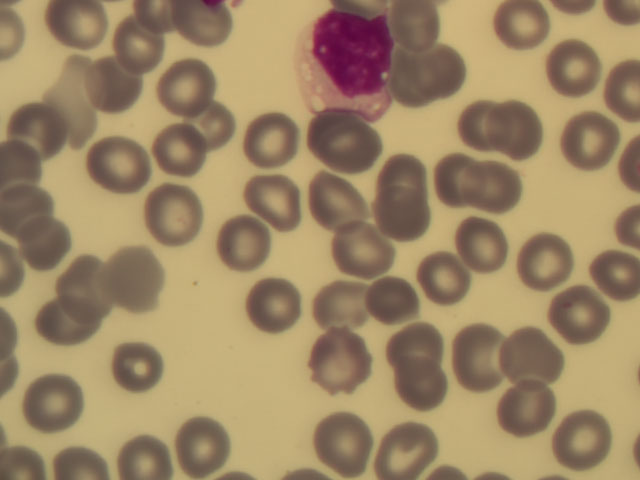RBC: (42, 50, 104, 133), (85, 58, 147, 122), (109, 14, 171, 78), (158, 53, 220, 117), (182, 90, 244, 154), (152, 114, 214, 178), (91, 131, 153, 195), (142, 176, 204, 240), (111, 248, 173, 312), (54, 255, 116, 319), (19, 216, 81, 280), (11, 98, 73, 162), (36, 301, 98, 365), (105, 331, 167, 395), (25, 373, 87, 437), (176, 411, 238, 475), (110, 416, 172, 480), (240, 279, 302, 343), (214, 211, 276, 275), (241, 168, 303, 232), (243, 106, 305, 170), (317, 114, 379, 178), (306, 169, 368, 233), (330, 219, 392, 283), (368, 185, 430, 249), (374, 145, 436, 209), (427, 150, 489, 214), (467, 153, 529, 217), (446, 94, 508, 158), (490, 98, 552, 162), (407, 47, 469, 111), (491, 1, 553, 65), (540, 36, 602, 100), (563, 109, 625, 173), (519, 227, 581, 291), (455, 216, 517, 280), (419, 246, 481, 310), (370, 275, 432, 339), (308, 268, 370, 332), (311, 329, 373, 393), (389, 304, 451, 368), (391, 341, 453, 405), (448, 325, 510, 389), (503, 322, 565, 386), (495, 379, 557, 443), (549, 404, 611, 468), (550, 285, 612, 349), (578, 241, 640, 305), (375, 416, 437, 480), (312, 408, 374, 472), (1, 176, 62, 240), (45, 1, 111, 50)
WBC: (294, 6, 399, 121)
